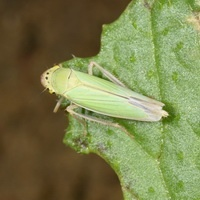insect: (41, 65, 167, 120)
